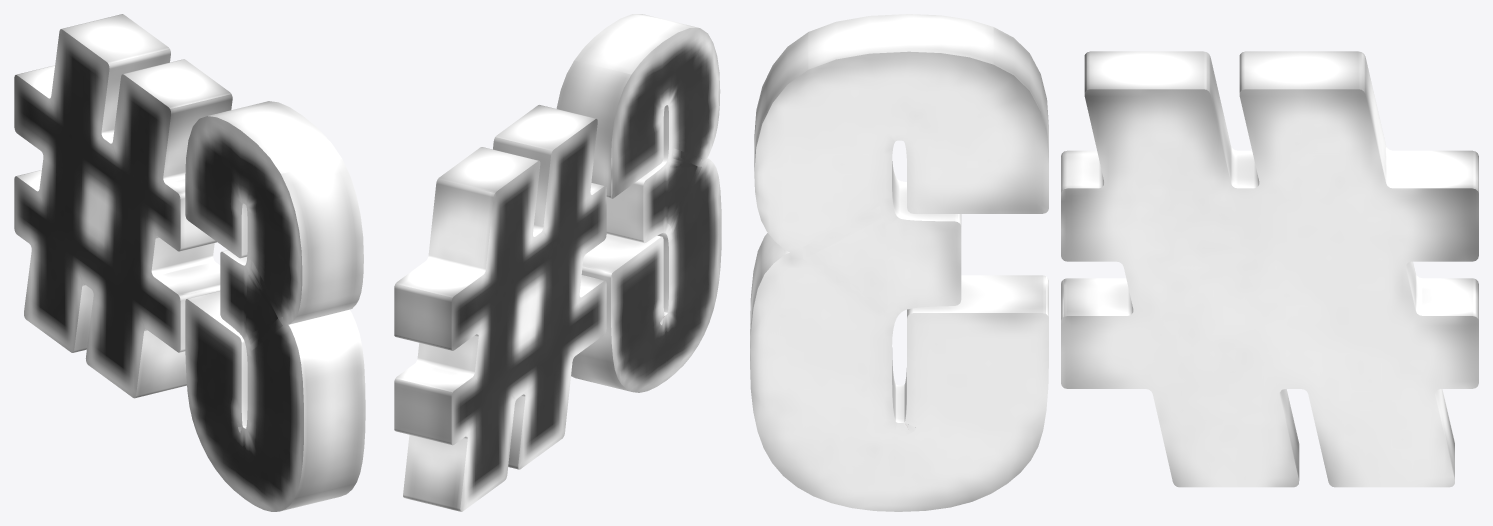
The model's file is SM_Number3_01.fbx.
The picture shows the model from 3 angles, left to right: view 1: azimuth 30°, elevation 25°; view 2: azimuth 150°, elevation 25°; view 3: azimuth 270°, elevation 25°; orthographic projection. The views are drawn at different scales.
Parts seen in each view (by area): view 1: SM_Number3_01_LOD0; view 2: SM_Number3_01_LOD0; view 3: SM_Number3_01_LOD0.
Part boxes in pixels (<box>): SM_Number3_01_LOD0: <box>14,14,365,511</box>; SM_Number3_01_LOD0: <box>394,14,721,511</box>; SM_Number3_01_LOD0: <box>750,14,1478,511</box>.
Bounding box in the file's own units: 7.43 × 60.62 × 42.23.
Materials: 1 (1 with a texture image).
